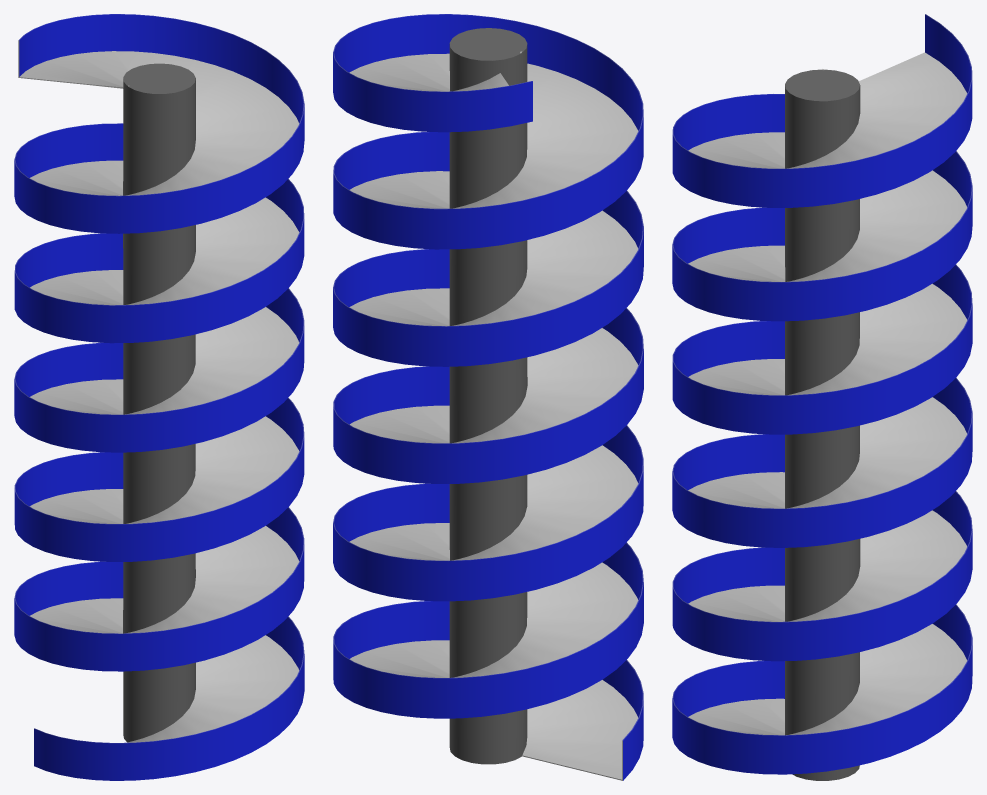
3 views of the same model, side by side, from view 1: azimuth 30°, elevation 25°; view 2: azimuth 150°, elevation 25°; view 3: azimuth 270°, elevation 25° (orthographic). The views are drawn at different scales.
Visible parts, largest first — view 1: Solid1; view 2: Solid1; view 3: Solid1.
Boxes of the visible parts, x1,y1,x2,y2 form: Solid1: [14, 14, 304, 780]; Solid1: [333, 14, 643, 780]; Solid1: [672, 14, 972, 780].
Bounding box in the file's own units: 0.0214 × 0.0553 × 0.0214.
